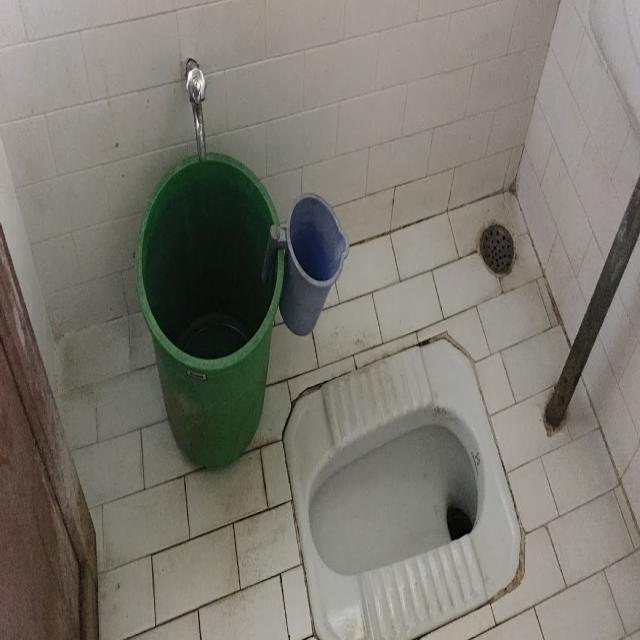dirty_floor: (2, 1, 637, 637), (280, 332, 526, 638), (306, 411, 485, 577), (477, 221, 516, 277)
